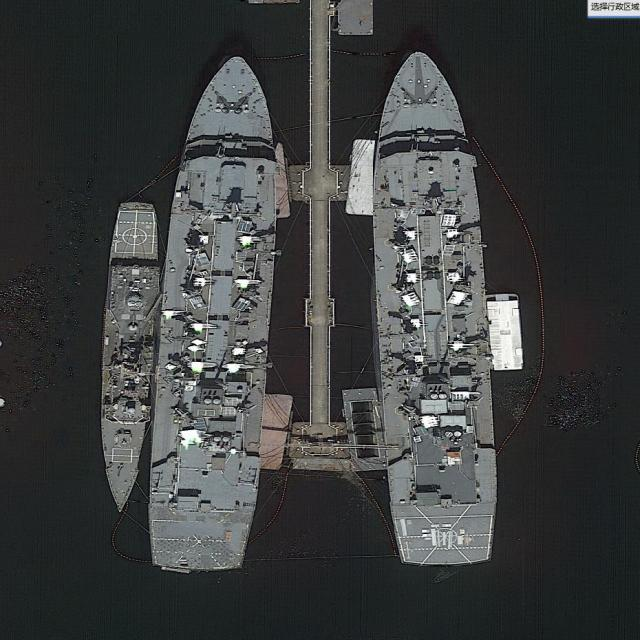Auxiliary Ships: (138, 54, 295, 579), (356, 46, 506, 573)
Dock: (310, 3, 332, 425)
Frigate: (96, 200, 162, 514)
